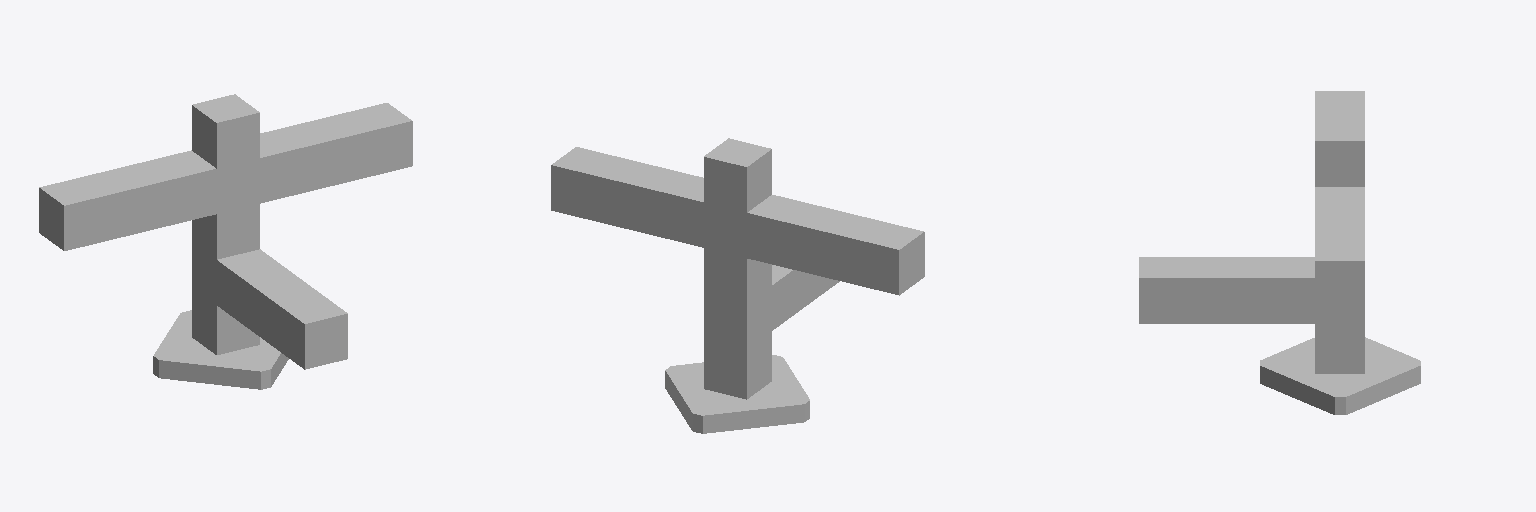
Rendered from obs3.obj.
3 renders of one model, left to right at view 1: azimuth 30°, elevation 25°; view 2: azimuth 150°, elevation 25°; view 3: azimuth 270°, elevation 25°, orthographic.
Visible parts, largest first — view 1: ob3_Cube.019; view 2: ob3_Cube.019; view 3: ob3_Cube.019.
Boxes of the visible parts, box(x1,y1,x2,y2) form: ob3_Cube.019: box(39, 94, 412, 389); ob3_Cube.019: box(551, 138, 924, 433); ob3_Cube.019: box(1139, 91, 1420, 414).
Size of the model in its own units: 2 by 1.38 by 1.4.